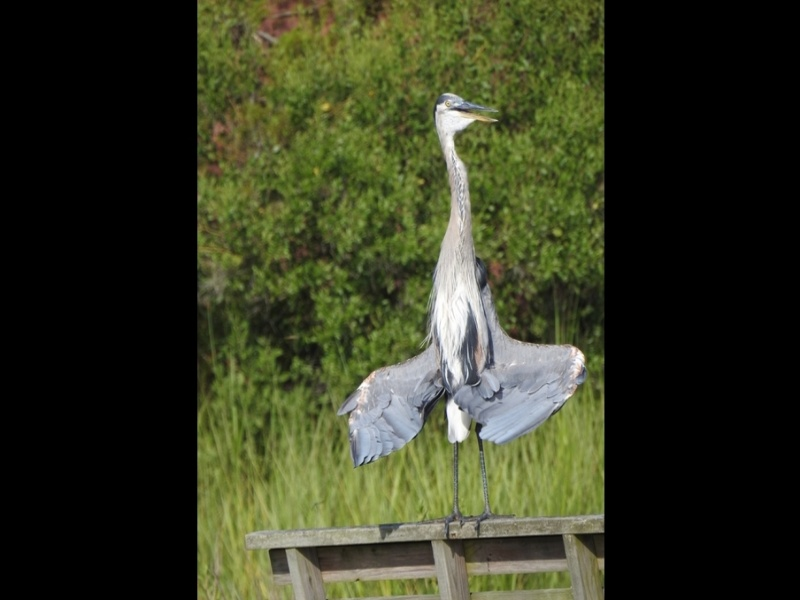heron: (333, 86, 588, 532)
